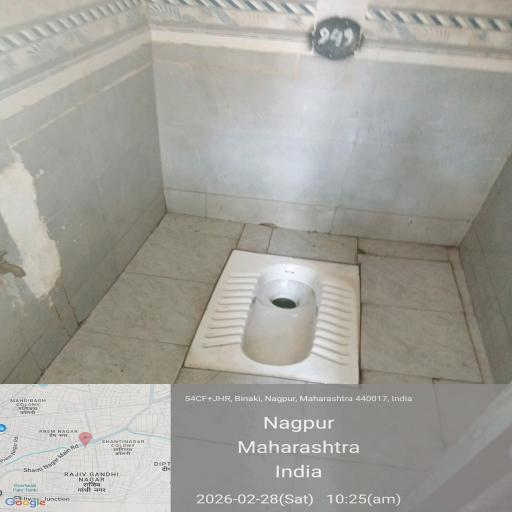clean_floor: (15, 10, 512, 237), (65, 384, 473, 511)
clean_indian: (194, 252, 355, 410)
